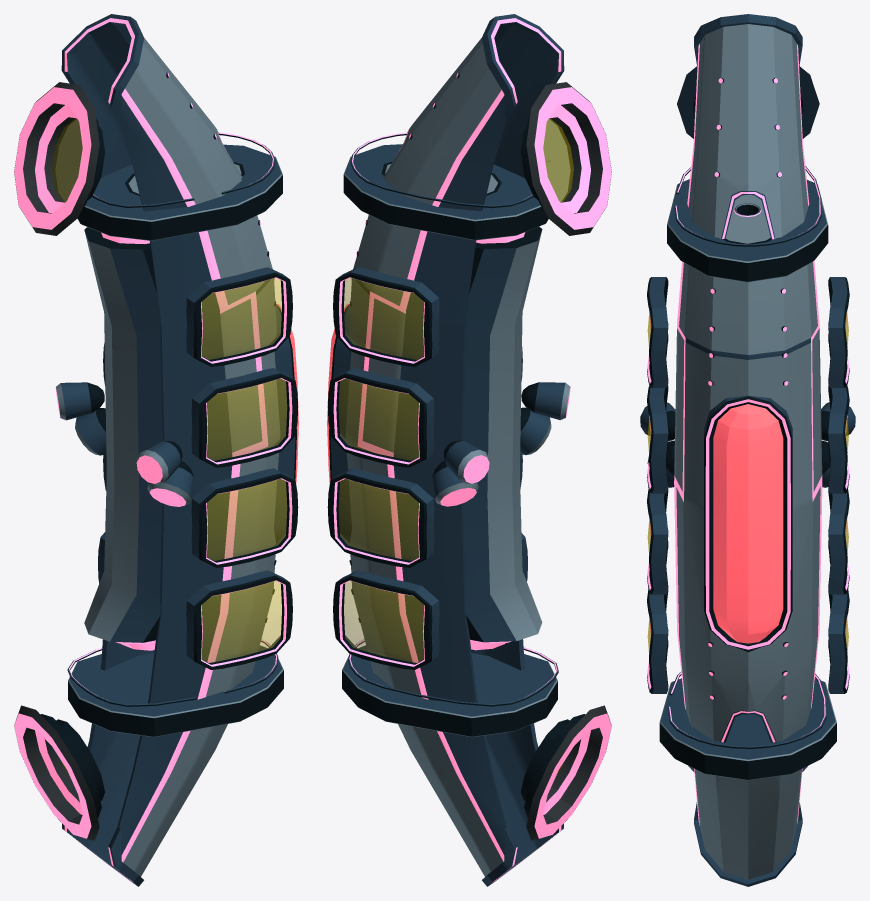
File: airship_vertical_02.fbx
The picture shows the model from 3 angles, left to right: view 1: azimuth 30°, elevation 25°; view 2: azimuth 150°, elevation 25°; view 3: azimuth 270°, elevation 25°; orthographic projection.
Visible parts, largest first — view 1: airship_03_dark_37; view 2: airship_03_dark_37; view 3: airship_03_dark_37.
Part boxes in pixels (x1,y1,x2,y2): airship_03_dark_37: (14, 14, 298, 886); airship_03_dark_37: (327, 14, 611, 886); airship_03_dark_37: (640, 14, 855, 886).
Size of the model in its own units: 2564 by 8089 by 1808.
